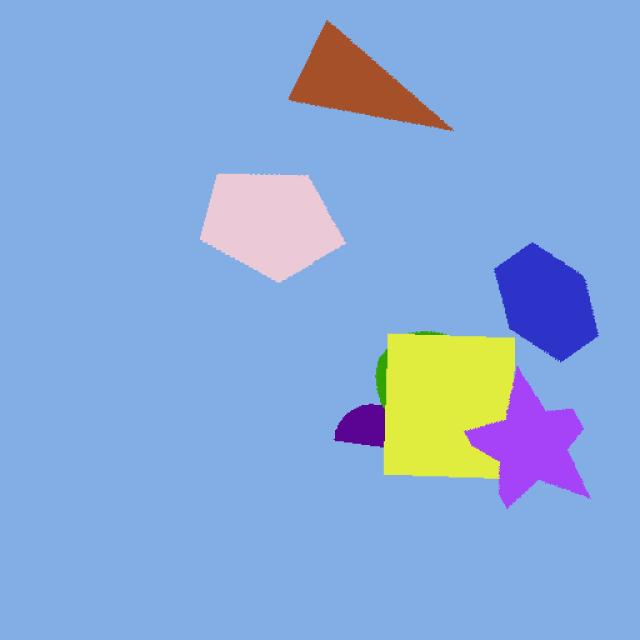Hexagon: (478, 229, 622, 370)
Pentagon: (168, 154, 361, 285)
Semicircle: (321, 389, 453, 467)
Star: (435, 358, 615, 532)
Triangle: (260, 15, 551, 140)
square: (368, 326, 528, 502)
